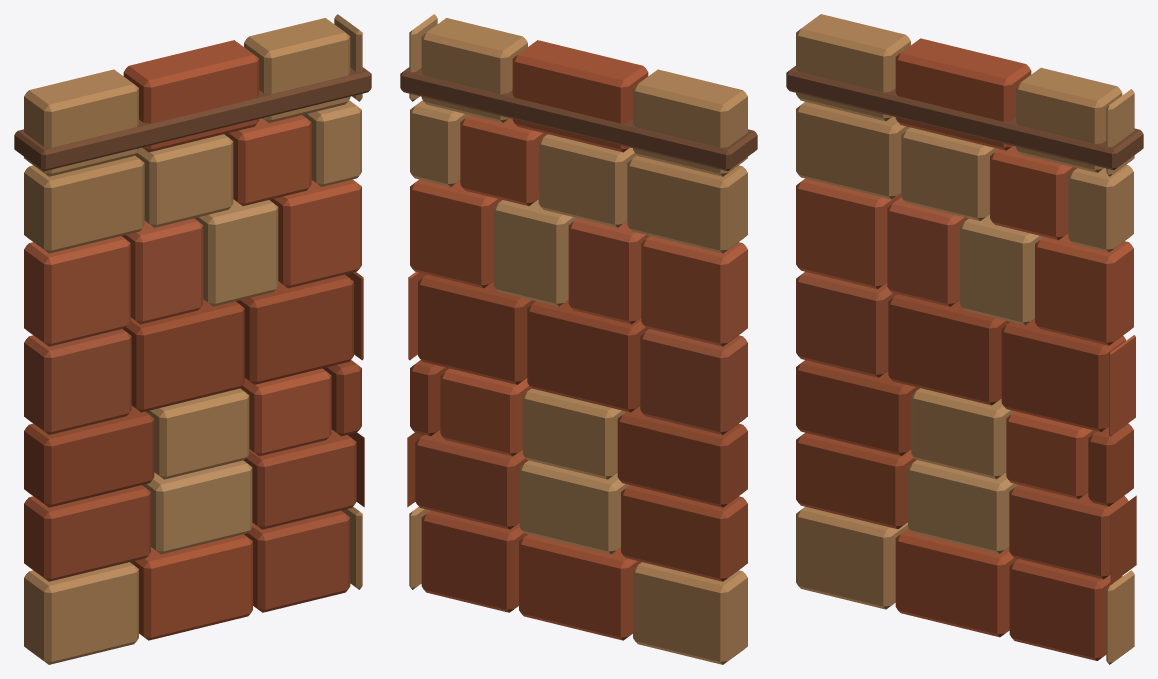
File: SandWall4.glb
The picture shows the model from 3 angles, left to right: view 1: azimuth 30°, elevation 25°; view 2: azimuth 150°, elevation 25°; view 3: azimuth 330°, elevation 25°; orthographic projection.
Visible parts, largest first — view 1: Body; view 2: Body; view 3: Body.
Boxes of the visible parts, box(x1,y1,x2,y2) form: Body: box(14, 14, 371, 664); Body: box(400, 14, 757, 664); Body: box(786, 14, 1143, 664).
Size of what is drawn, in the model's own units: 4.1 by 6.64 by 0.65.
